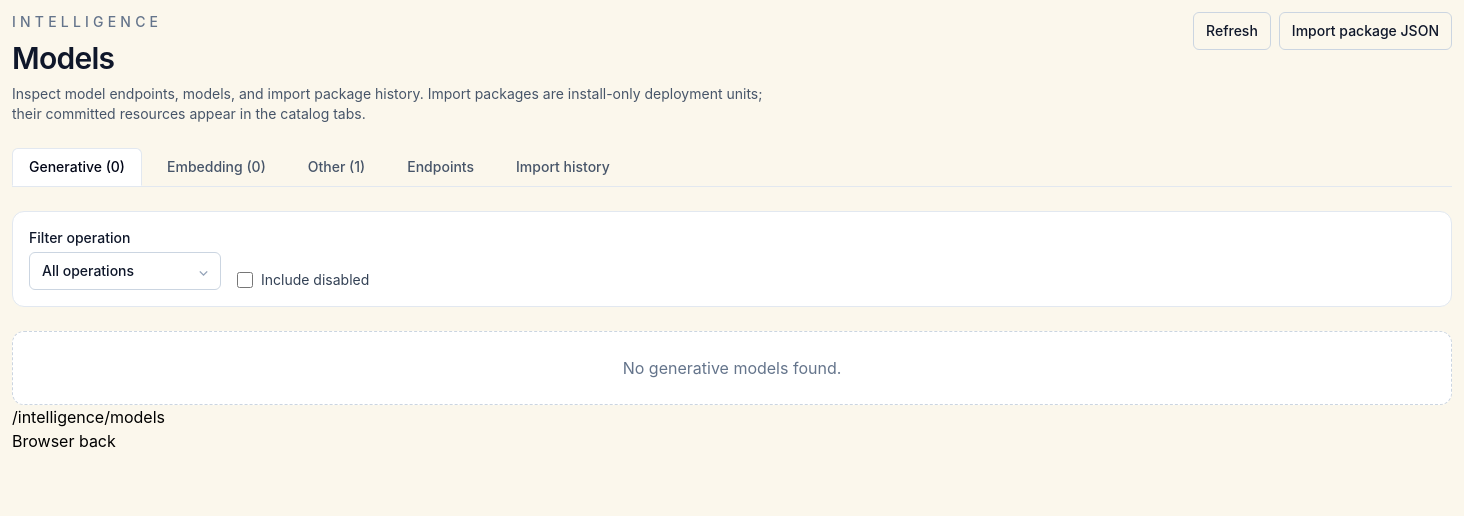
Test case: exposes unknown model kinds through a conditional Other tab
The width and height of the screenshot is (1464, 516).
Click the tab "Other (1)" at (336, 167), box [291,148,382,186]
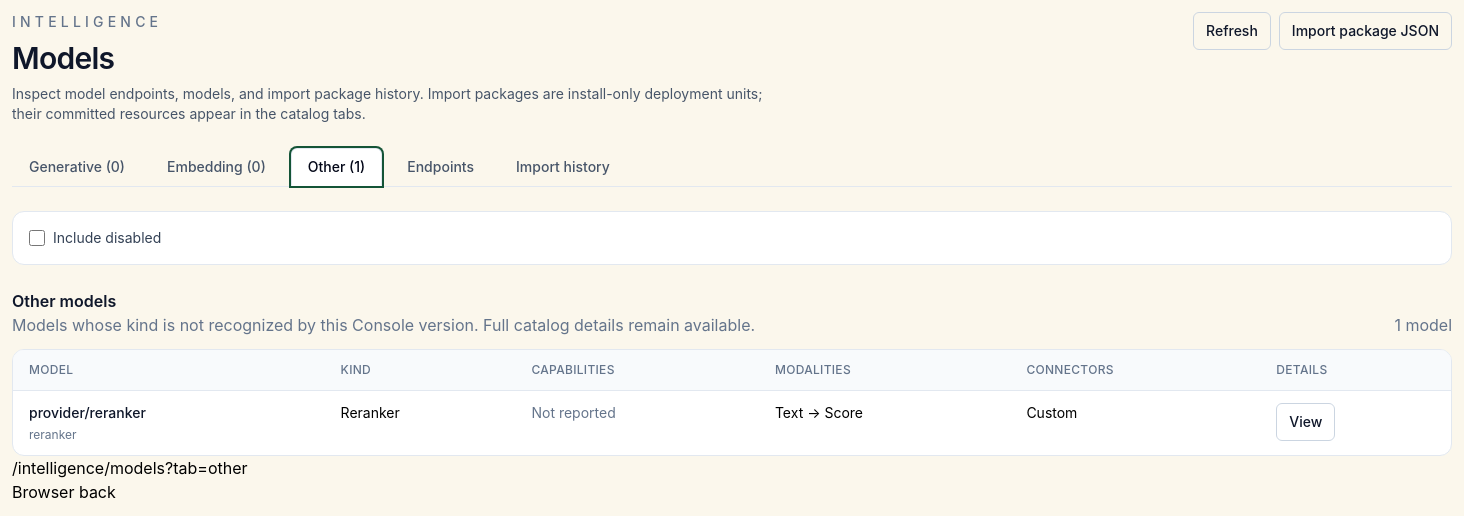
Result: the text "provider/reranker" is shown at [29,404,146,421]
Result: the text "Reranker" is shown at [325,390,516,455]
Result: the label labelled "Filter operation" is gone
